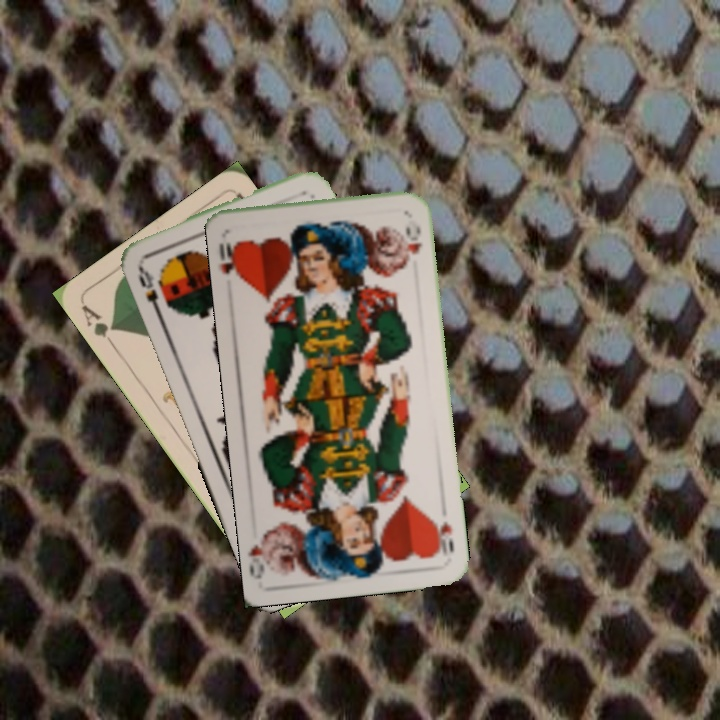GA: (76, 300, 120, 352)
HO: (215, 237, 245, 282), (429, 514, 456, 559)
SO: (134, 261, 164, 317)
